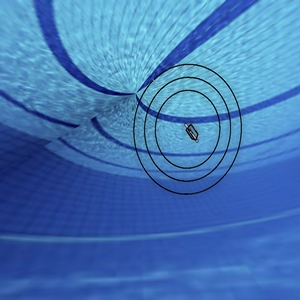circle: (126, 52, 250, 202)
submarine: (179, 119, 213, 152)
